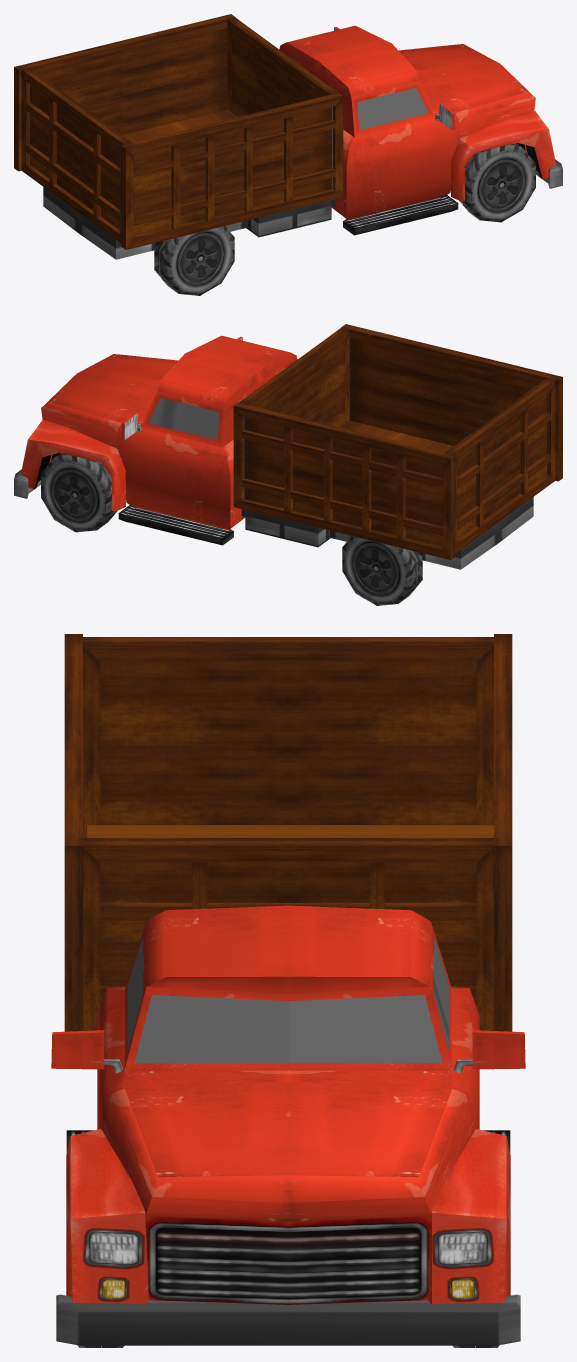
File: truck.fbx
3 renders of one model, top to bottom at view 1: azimuth 30°, elevation 25°; view 2: azimuth 150°, elevation 25°; view 3: azimuth 270°, elevation 25°, orthographic. The views are drawn at different scales.
Parts seen in each view (by area): view 1: Mesh Object; view 2: Mesh Object; view 3: Mesh Object.
Part boxes in pixels (bbox=[...]): Mesh Object: bbox=[14, 14, 562, 295]; Mesh Object: bbox=[14, 324, 562, 605]; Mesh Object: bbox=[51, 634, 525, 1347].
Bounding box in the file's own units: 6.64 × 2.43 × 3.1.
